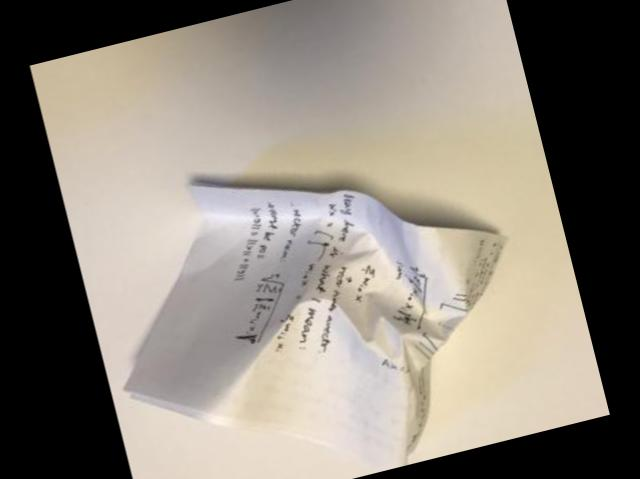cardboard paper: (124, 186, 503, 470)
